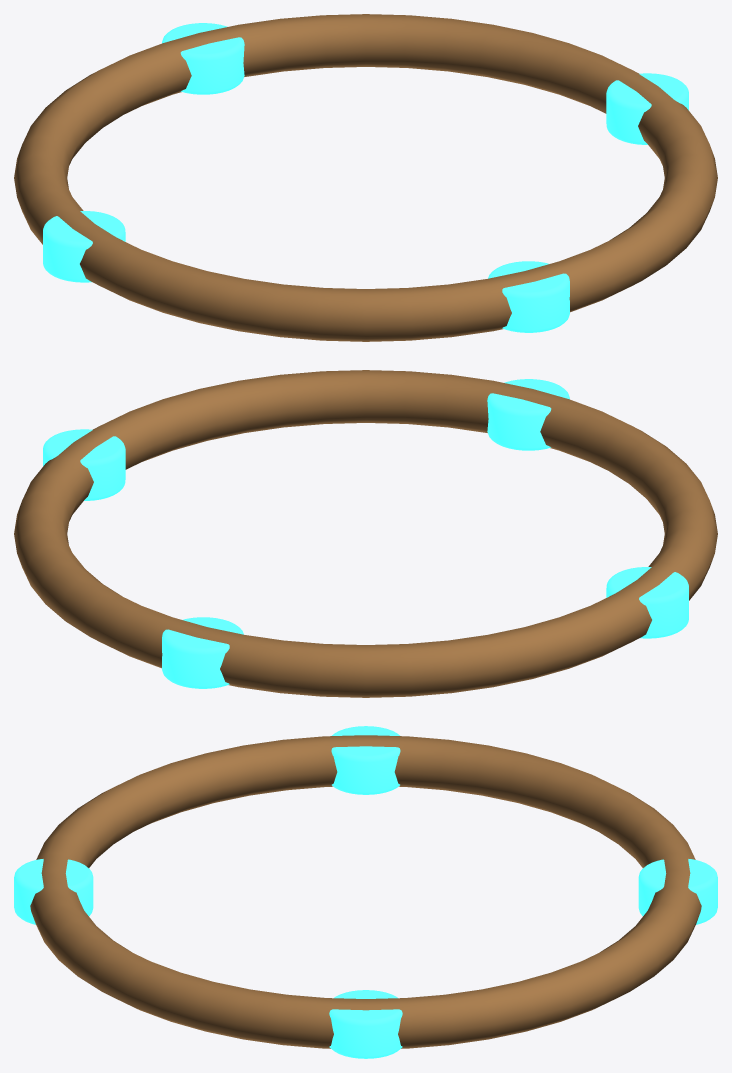
File: SM_BRUNO_Aro.fbx
3 renders of one model, top to bottom at view 1: azimuth 30°, elevation 25°; view 2: azimuth 150°, elevation 25°; view 3: azimuth 270°, elevation 25°, orthographic. The views are drawn at different scales.
Visible parts, largest first — view 1: SM_BRUNO_Aro; view 2: SM_BRUNO_Aro; view 3: SM_BRUNO_Aro.
Part boxes in pixels (x1,y1,x2,y2): SM_BRUNO_Aro: (14, 14, 717, 341); SM_BRUNO_Aro: (14, 370, 717, 697); SM_BRUNO_Aro: (14, 726, 717, 1058).
Size of the model in its own units: 49.6 by 49.6 by 3.42.
